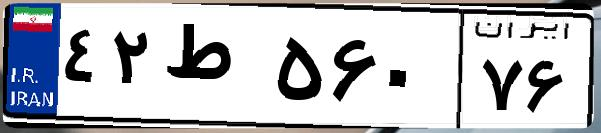0: (385, 28, 445, 110)
2: (110, 28, 158, 98)
4: (57, 26, 110, 100)
5: (270, 28, 330, 110)
6: (330, 28, 385, 110), (525, 38, 570, 115)
7: (475, 38, 525, 113)
ط: (158, 20, 270, 120)
